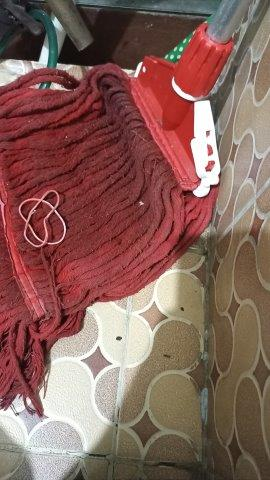karet: (19, 189, 67, 247)
